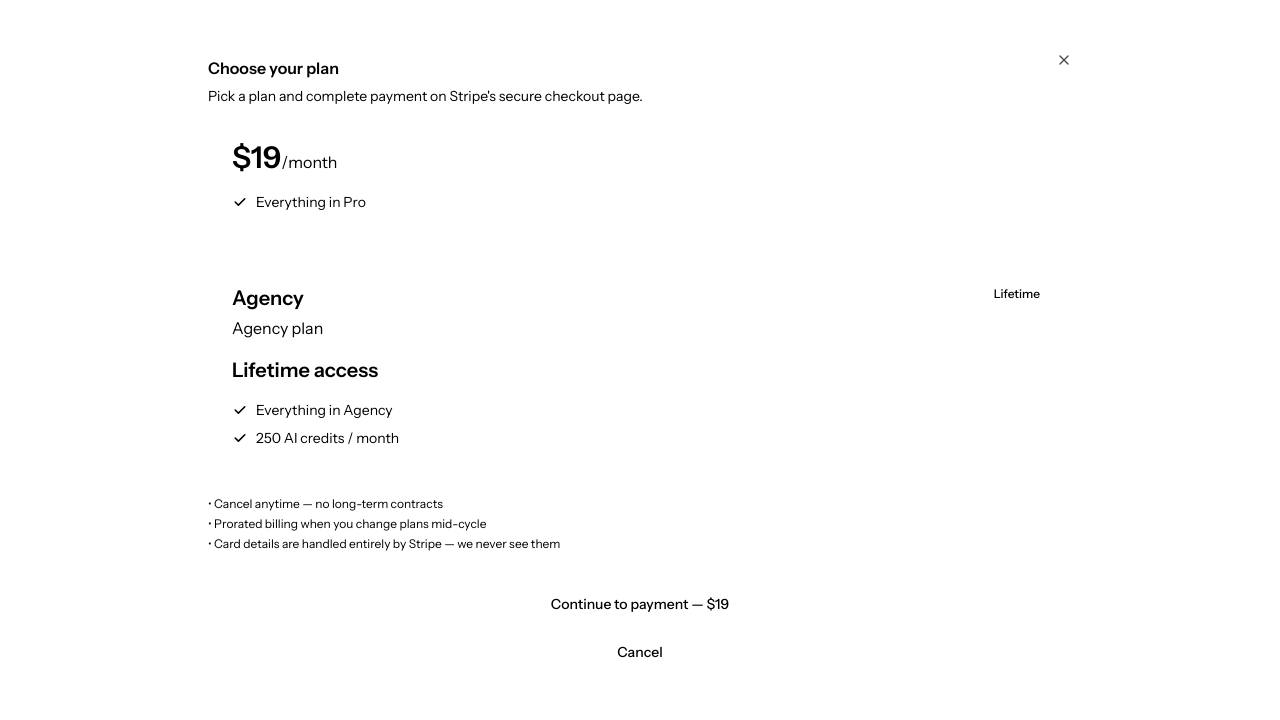
Test: UpgradeDialog, a plan held for life › cannot be bought: selecting it disables the submit, which names no price
(page scrolled)
What coordinates should you click on to do the following:
click the radio button labelled "Agency"
I would click on:
 (640, 366)
Its box is [208, 260, 1072, 472].
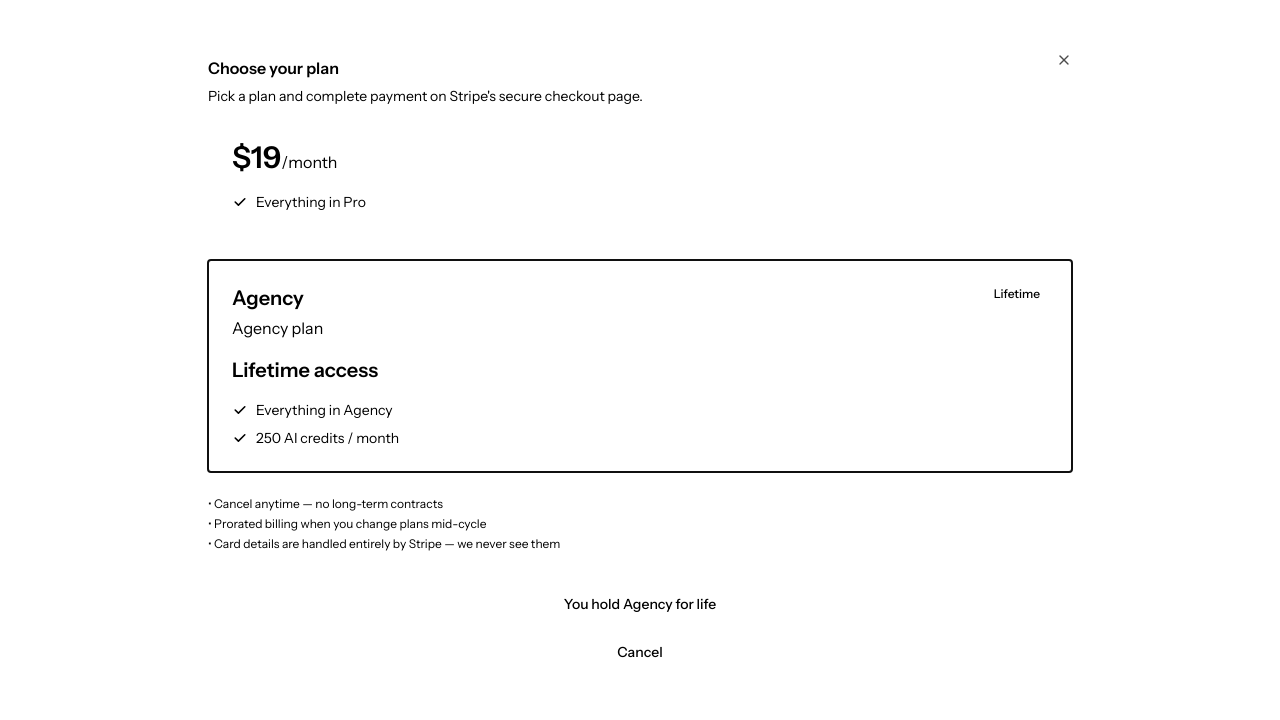
Check: the button "You hold Agency for life" is disabled, box [208, 584, 1072, 624]
